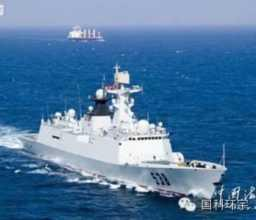Cargoship: (67, 22, 106, 44)
warship: (25, 65, 228, 202)
